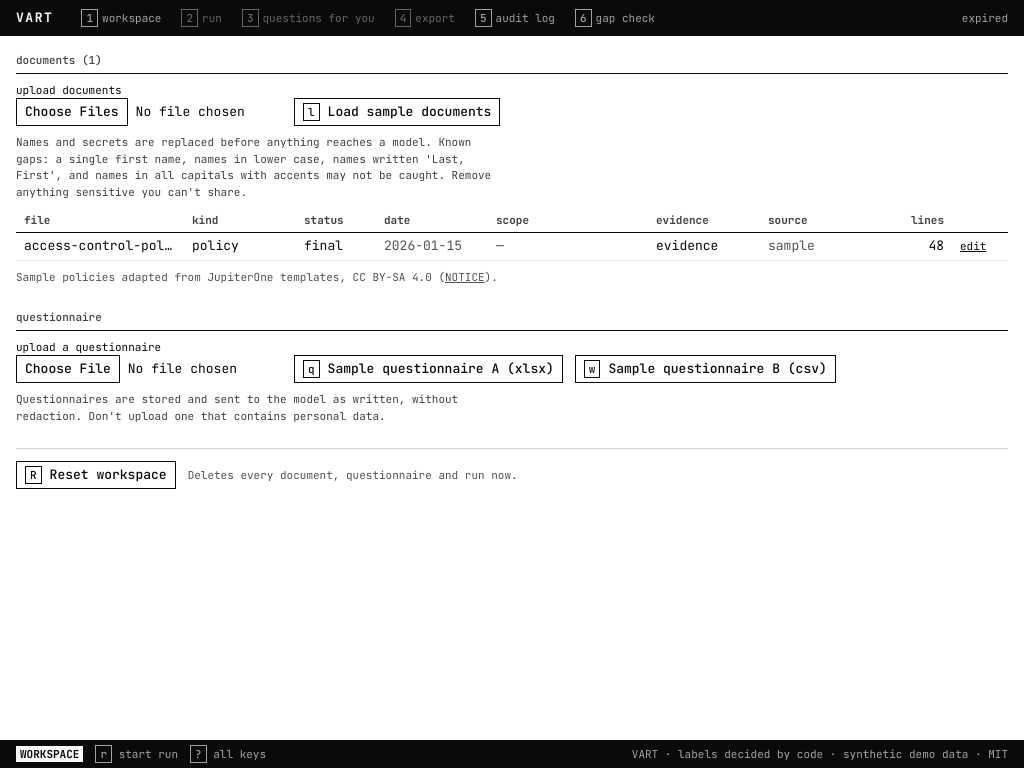
Test: Workspace › a closed edit form discards its change, so the next Save sends only the new edit
This screenshot has width=1024, height=768.
Click the button with aria-label "Edit access-control-policy.docx" at (973,246), box [960, 238, 986, 254]
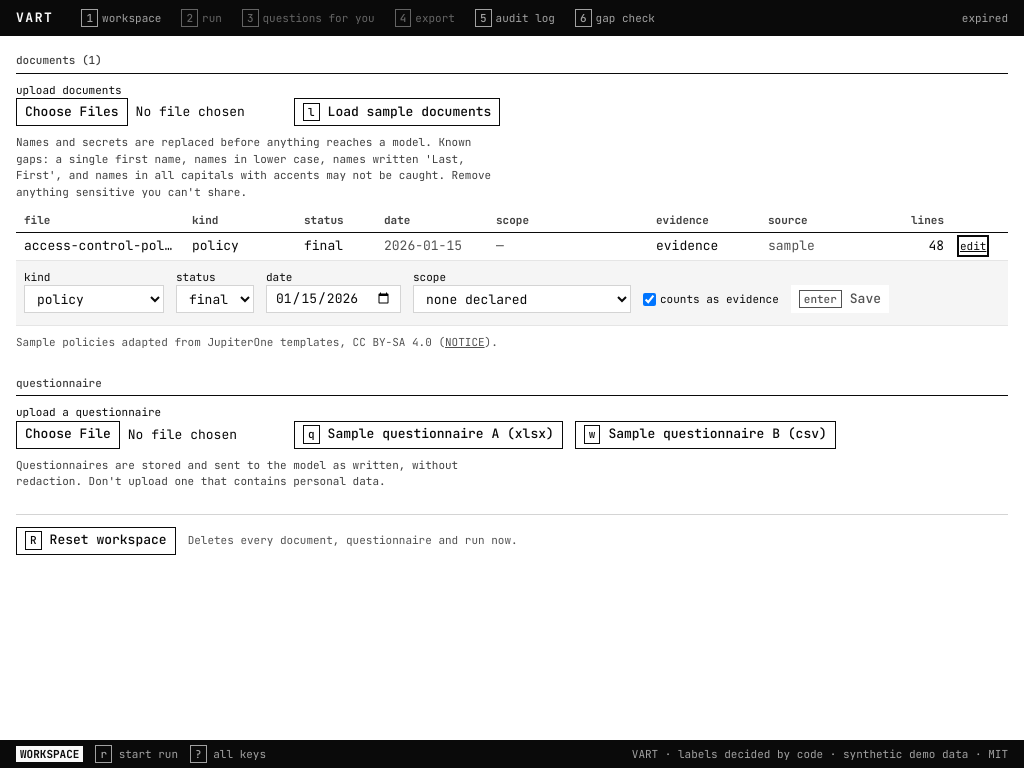
Select "draft" in the dropdown labelled "status" at (215,299), box [176, 285, 254, 313]
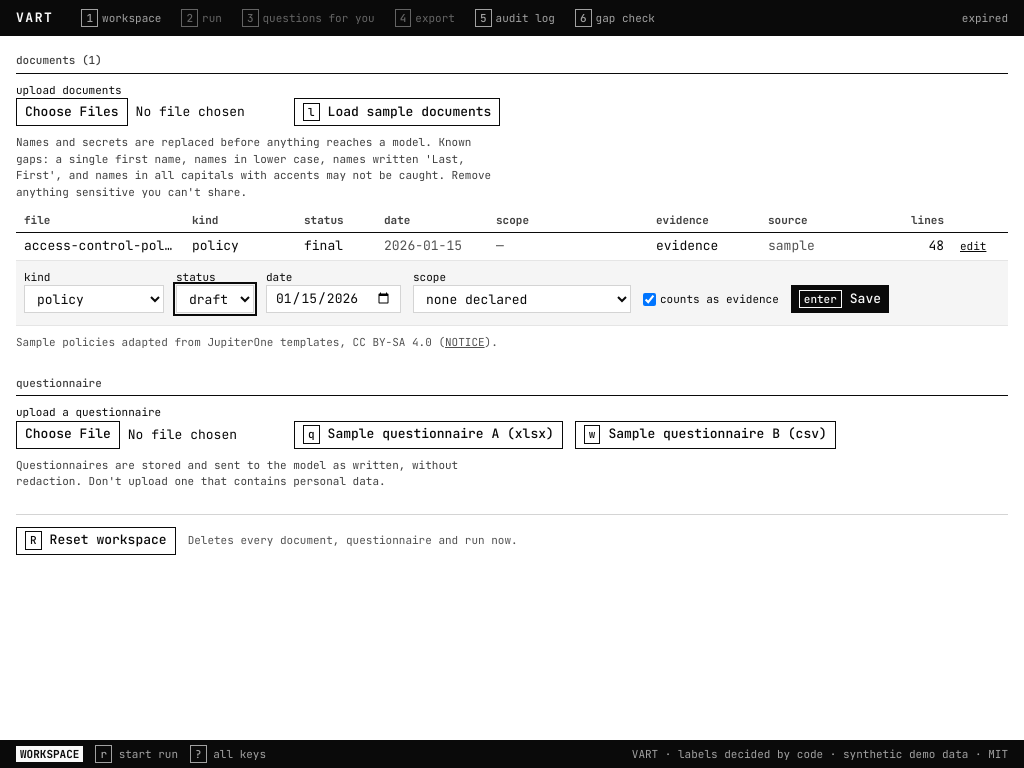
Click the button with aria-label "Edit access-control-policy.docx" at (973,246), box [960, 238, 986, 254]
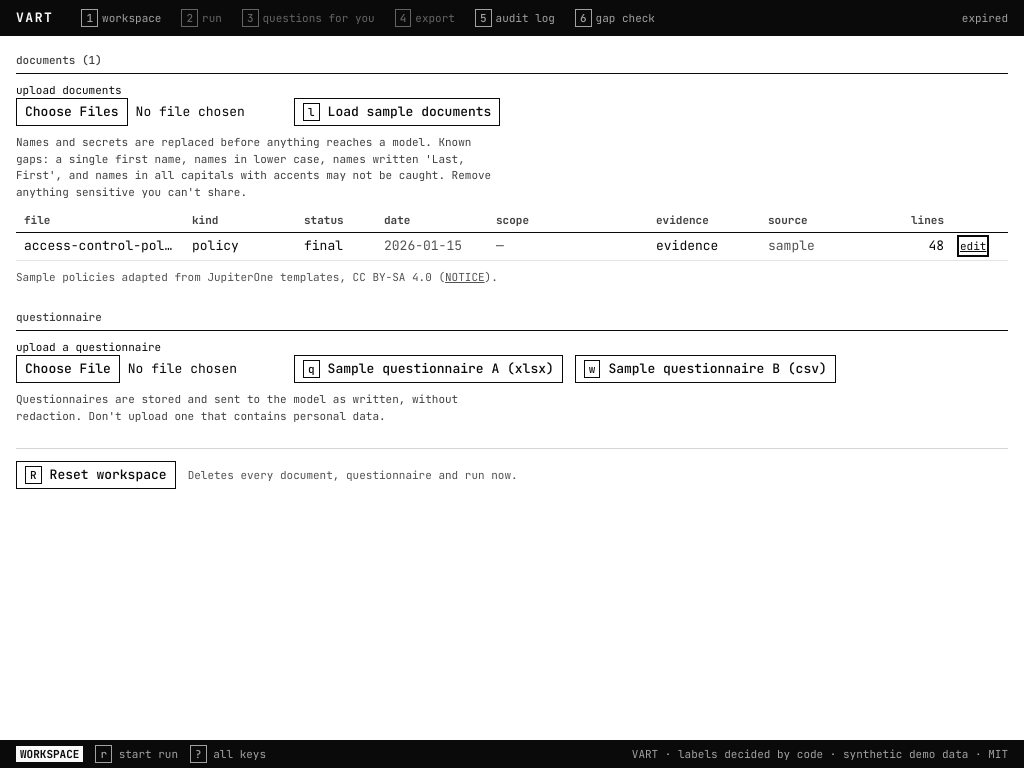
Click the button with aria-label "Edit access-control-policy.docx" at (973,246), box [960, 238, 986, 254]
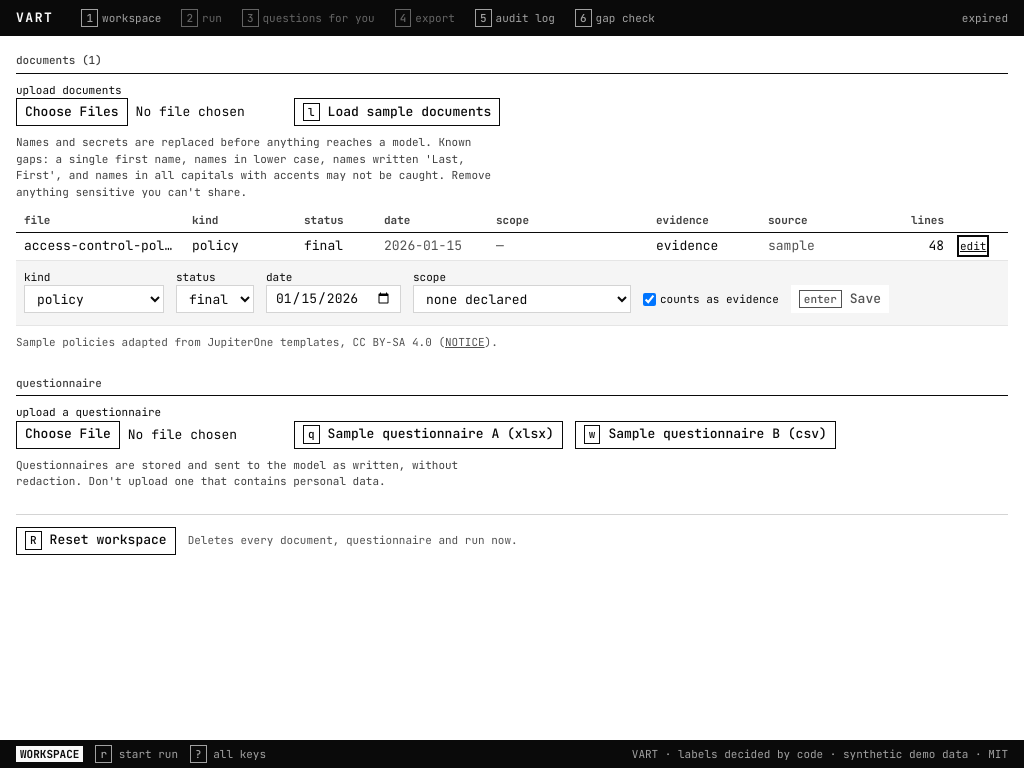
Check: the dropdown labelled "status" shows "final", box [176, 285, 254, 313]
Select "report" in the dropdown labelled "kind" at (94,299), box [24, 285, 164, 313]
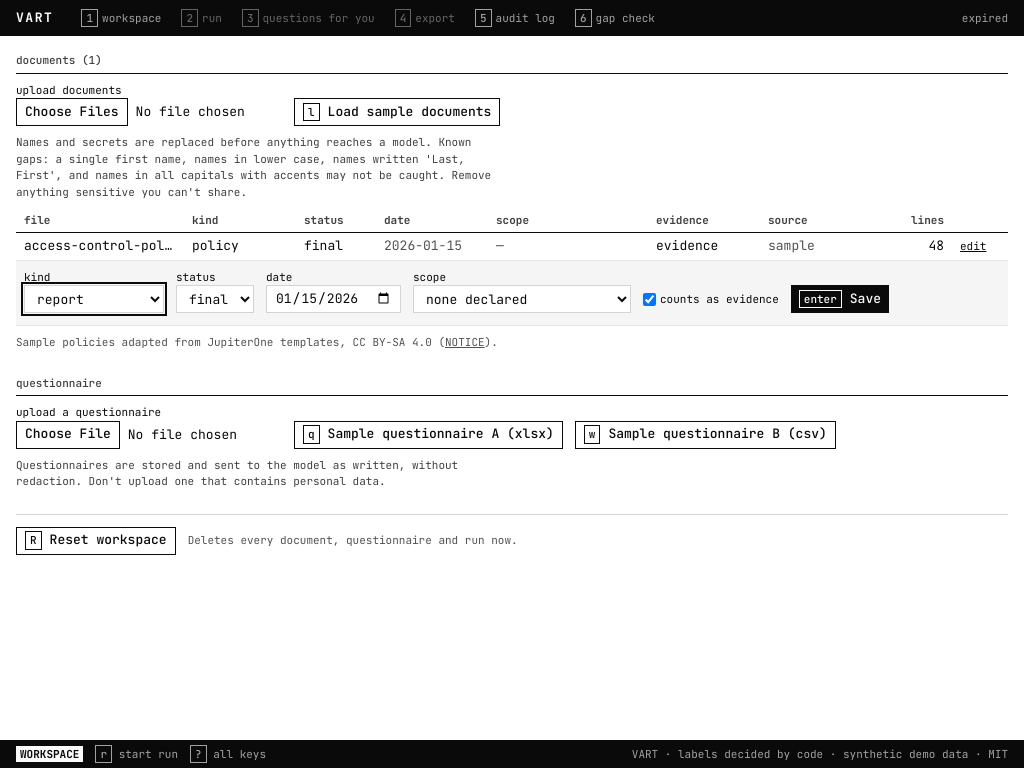
Click the button "enter Save" at (840,299), box [791, 285, 889, 313]
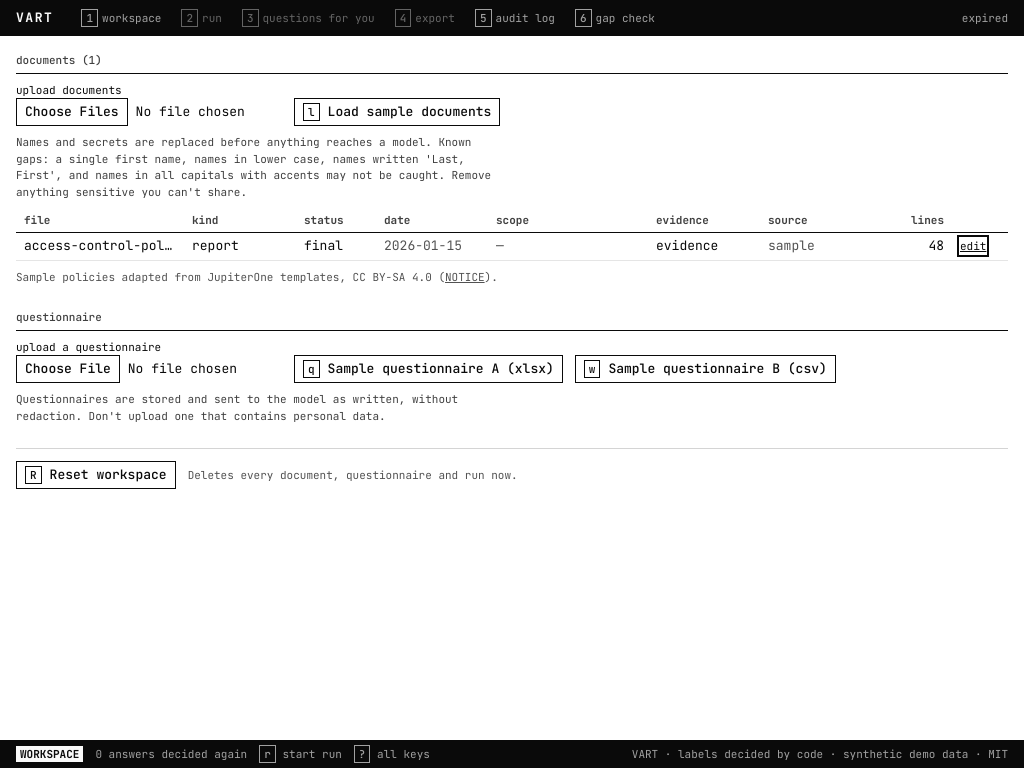
Check: the text "0 answers decided again" is shown, box [95, 746, 247, 762]
